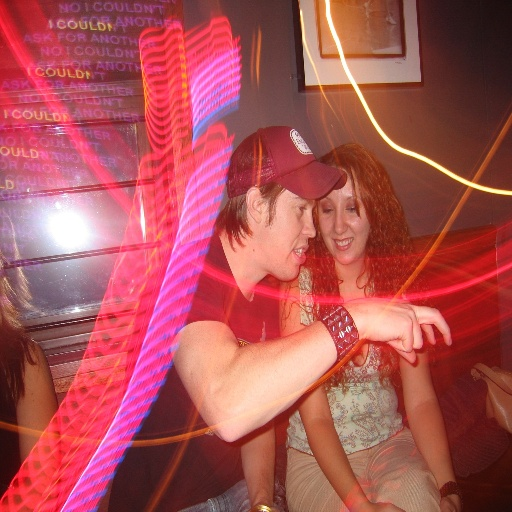hand: (352, 299, 457, 372), (369, 503, 408, 511), (440, 497, 461, 511)
